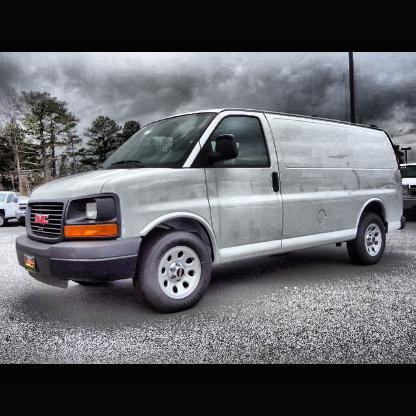GMC Savana Van 2012: (19, 109, 406, 313)
